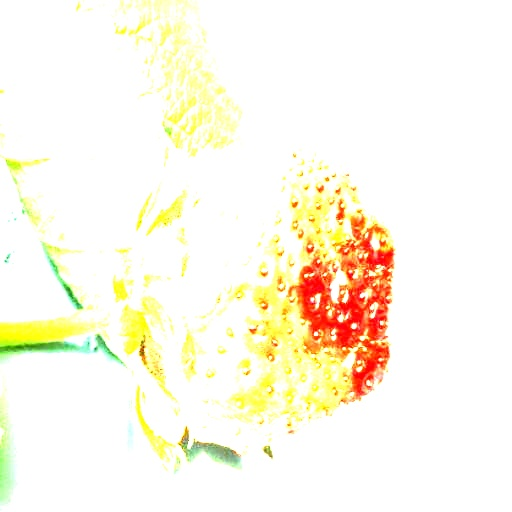Gray Mold: (141, 139, 401, 456)
